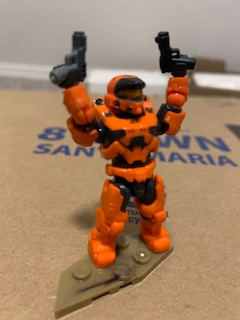pistol: (49, 29, 88, 88), (152, 31, 198, 81)
spartan: (49, 63, 193, 271)
up: (50, 63, 190, 164)
